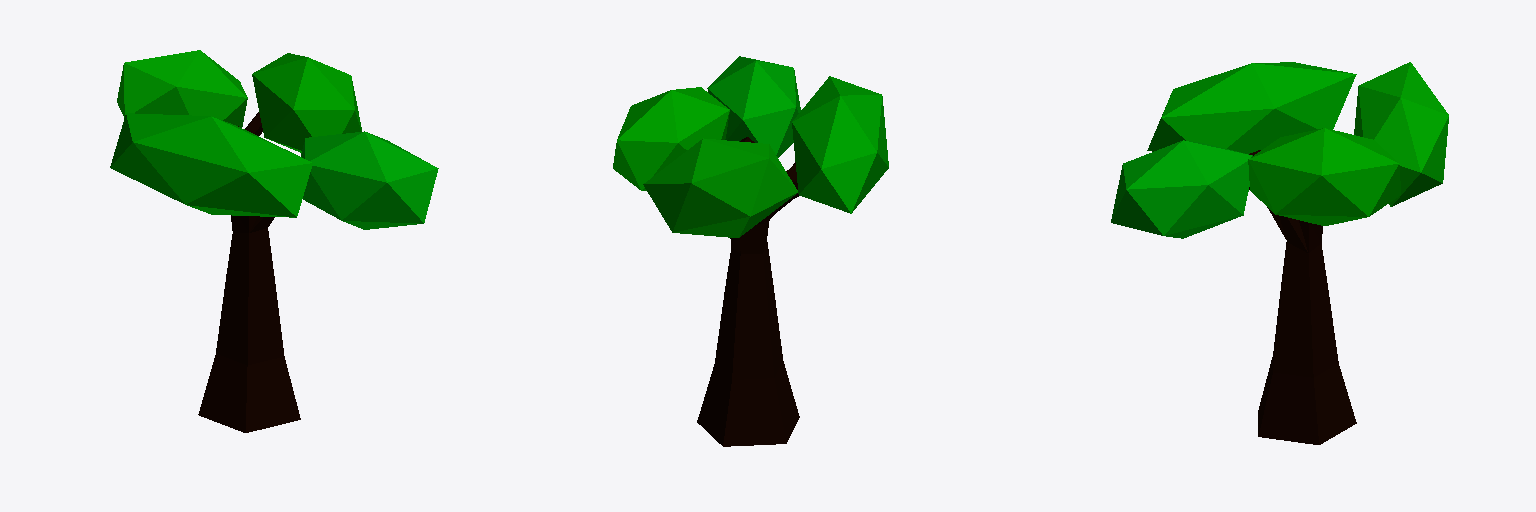
Rendered from tree.obj.
3 views of the same model, side by side, from view 1: azimuth 30°, elevation 25°; view 2: azimuth 150°, elevation 25°; view 3: azimuth 270°, elevation 25° (orthographic).
Parts seen in each view (by area): view 1: Cylinder.001; view 2: Cylinder.001; view 3: Cylinder.001.
Part boxes in pixels (bbox=[...]): Cylinder.001: bbox=[110, 50, 438, 432]; Cylinder.001: bbox=[613, 56, 888, 446]; Cylinder.001: bbox=[1111, 62, 1448, 444].
Bounding box in the file's own units: 8.06 × 10.89 × 10.17.